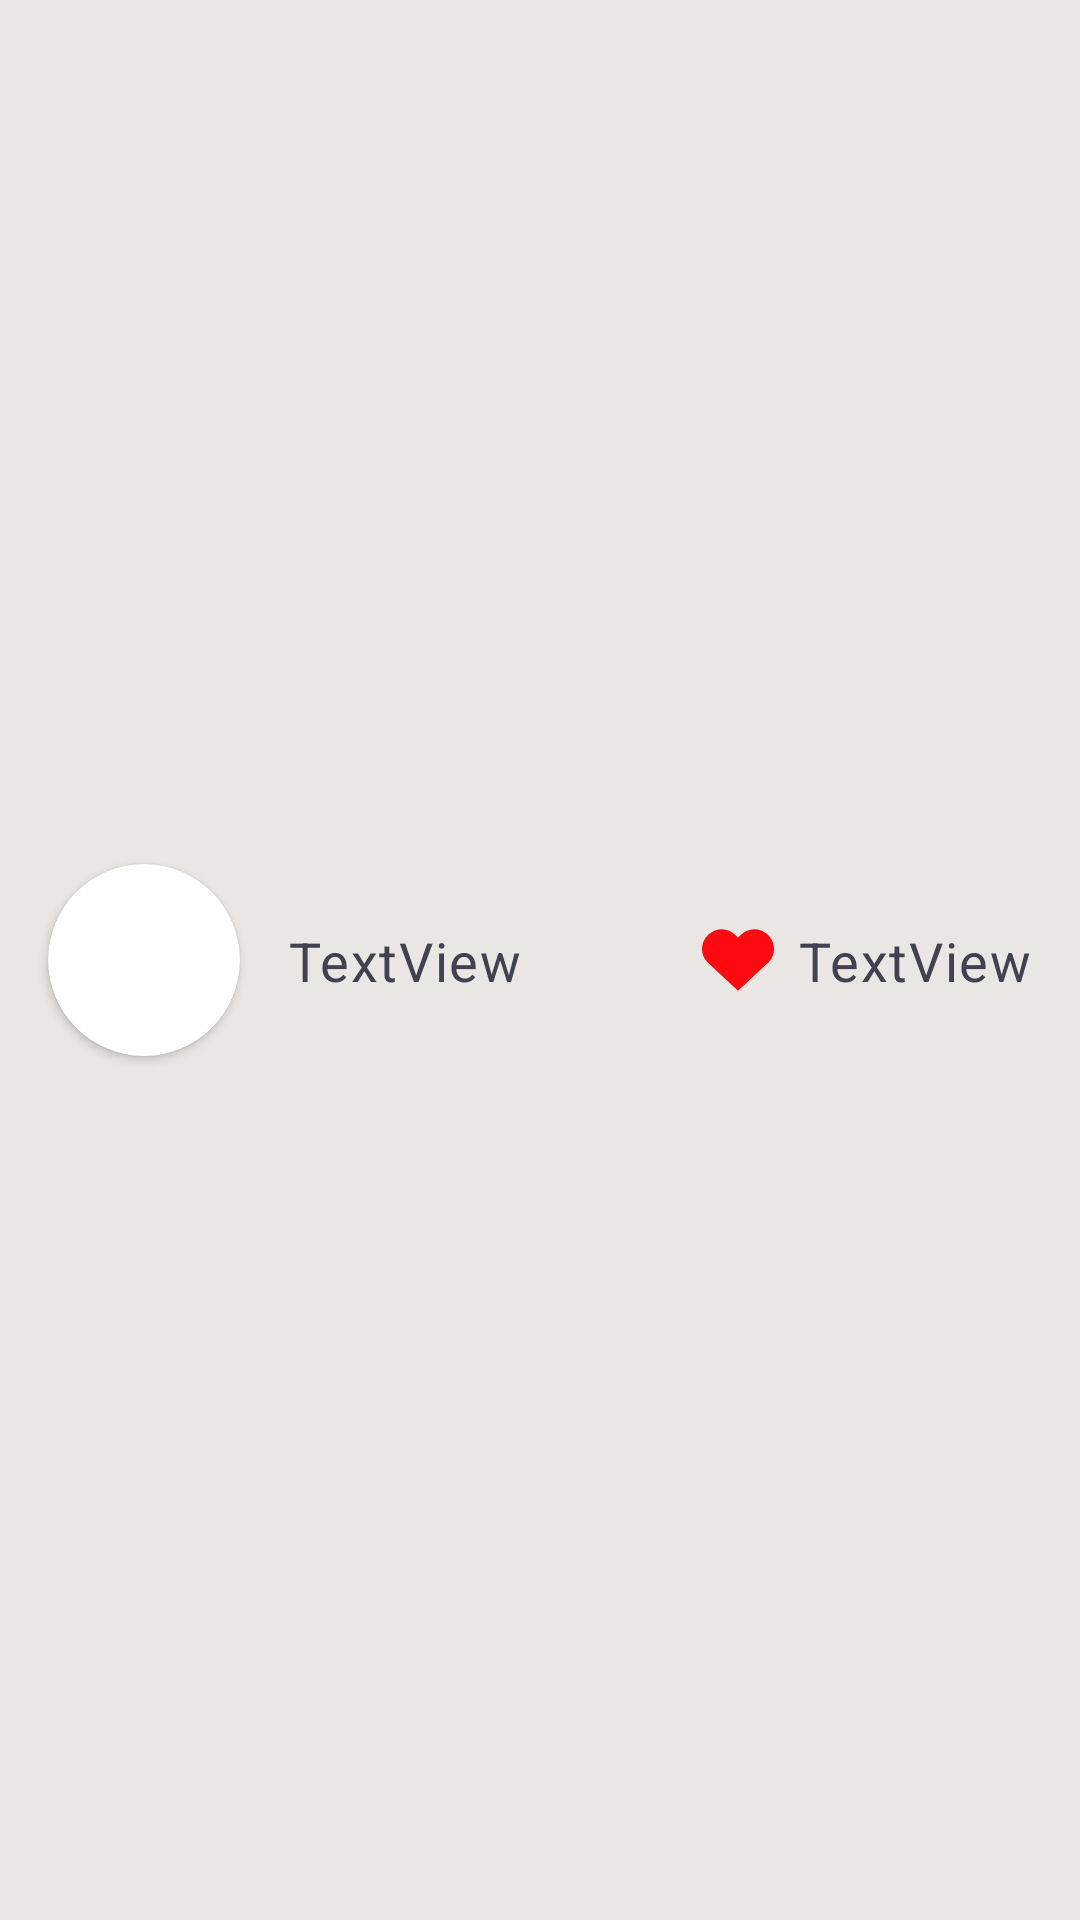

Icon click points for this 1080px×1920px phone screenshot, format (x,y):
redheart: (738,960)
